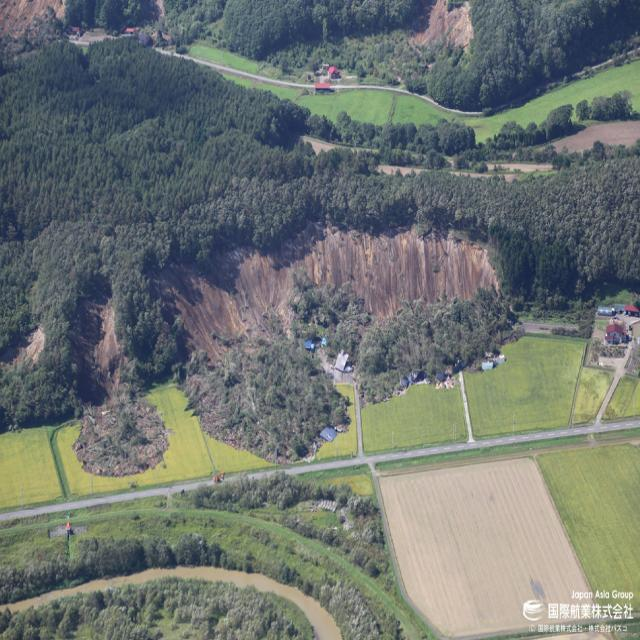Debris-flow: (159, 227, 498, 360), (74, 302, 121, 401), (0, 0, 65, 37), (425, 0, 469, 29), (14, 330, 44, 359)
